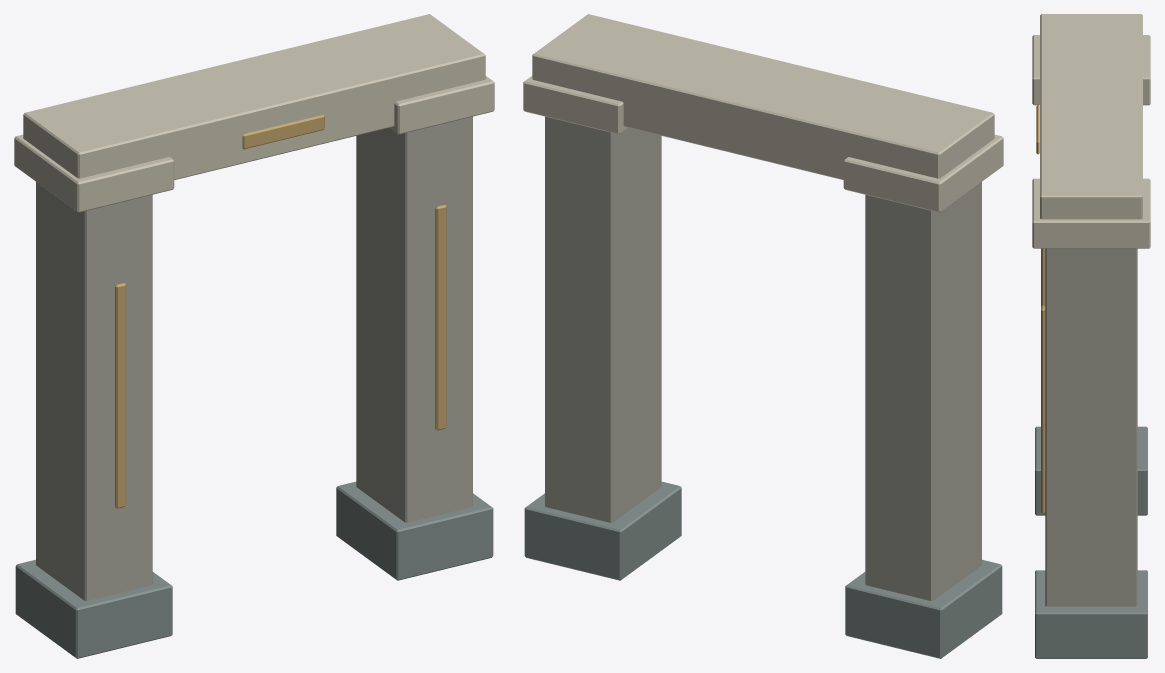
Rendered from ornate_gate.glb.
3 renders of one model, left to right at view 1: azimuth 30°, elevation 25°; view 2: azimuth 150°, elevation 25°; view 3: azimuth 270°, elevation 25°, orthographic. The views are drawn at different scales.
Parts seen in each view (by area): view 1: TV_ornate_gate; view 2: TV_ornate_gate; view 3: TV_ornate_gate.
Part boxes in pixels (bbox=[...]): TV_ornate_gate: bbox=[14, 14, 494, 658]; TV_ornate_gate: bbox=[523, 14, 1003, 658]; TV_ornate_gate: bbox=[1032, 14, 1150, 658].
Bounding box in the file's own units: 4.3 × 4.95 × 1.15.
